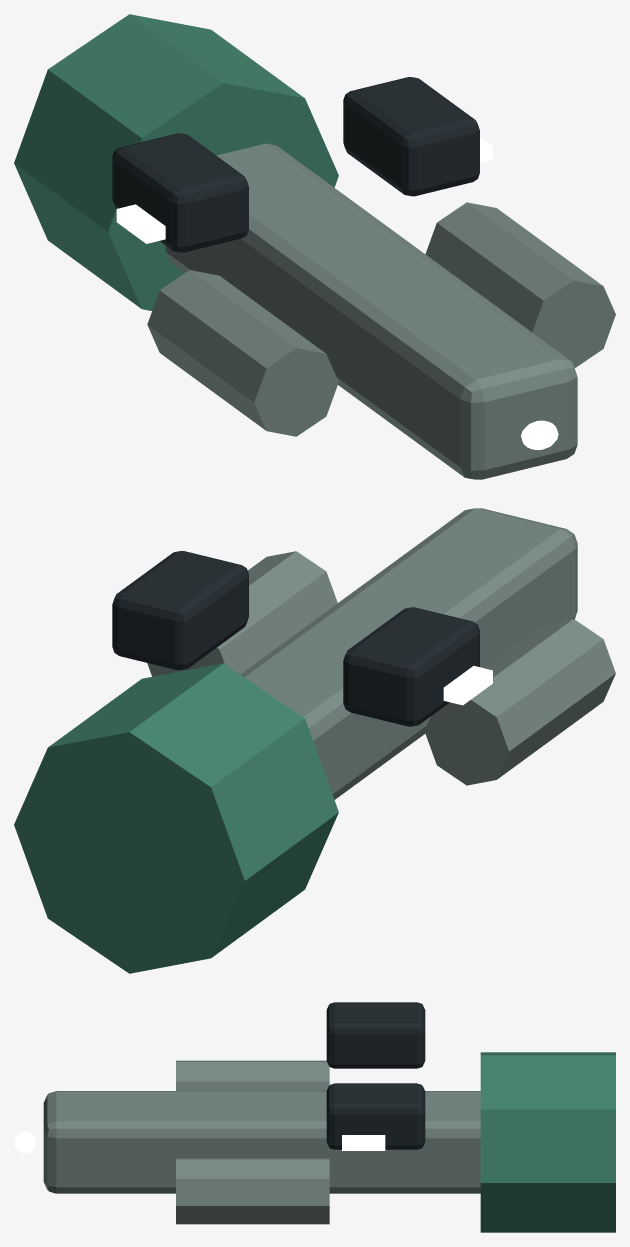
3 views of the same model, one above another, from view 1: azimuth 30°, elevation 25°; view 2: azimuth 150°, elevation 25°; view 3: azimuth 270°, elevation 25° (orthographic). The views are drawn at different scales.
Parts seen in each view (by area): view 1: RIMWARD_HULL, RIMWARD_EMISSIVE, RIMWARD_ENGINE_GLOW; view 2: RIMWARD_HULL, RIMWARD_EMISSIVE; view 3: RIMWARD_HULL, RIMWARD_EMISSIVE, RIMWARD_ENGINE_GLOW.
Part boxes in pixels (box(x1,y1,x2,y2)): RIMWARD_HULL: box(14, 14, 615, 479); RIMWARD_EMISSIVE: box(116, 137, 492, 243); RIMWARD_ENGINE_GLOW: box(521, 420, 558, 449); RIMWARD_HULL: box(14, 508, 615, 973); RIMWARD_EMISSIVE: box(443, 665, 492, 705); RIMWARD_HULL: box(43, 1002, 615, 1232); RIMWARD_EMISSIVE: box(342, 1135, 385, 1150); RIMWARD_ENGINE_GLOW: box(14, 1131, 35, 1153).
Bounding box in the file's own units: 8.31 × 5.37 × 16.63.
